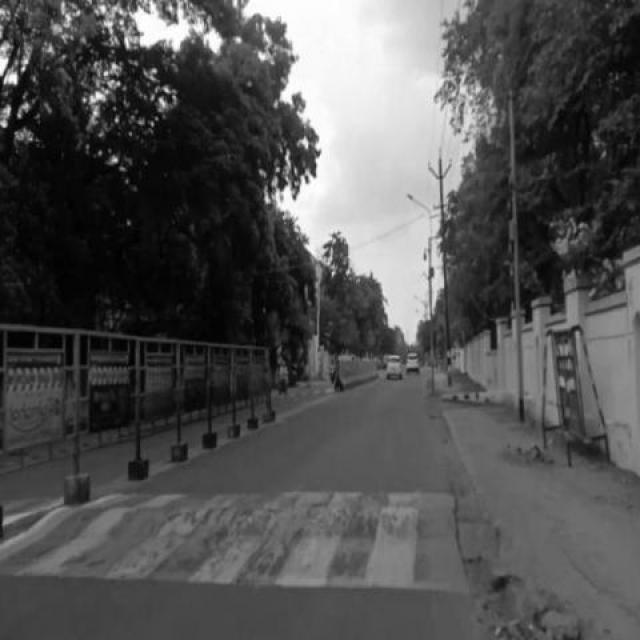Speed Bump: (1, 488, 470, 620)
